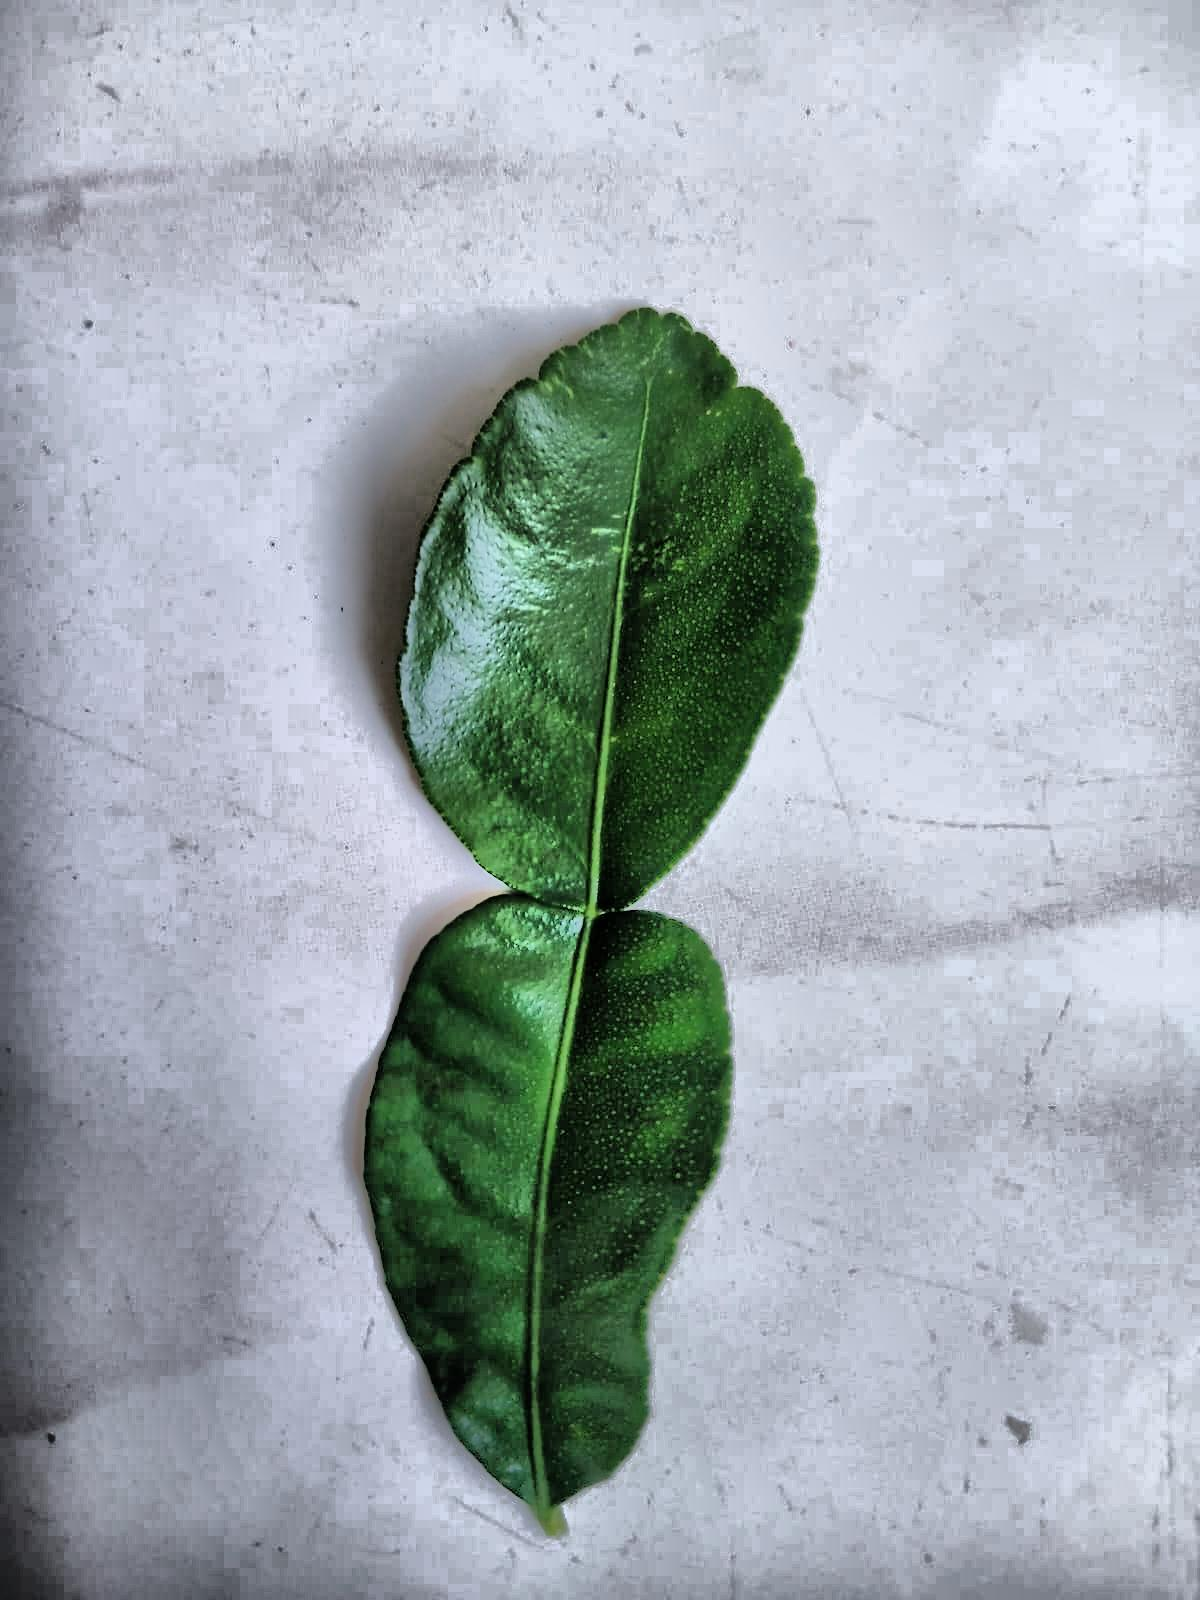daun jeruk: (363, 309, 817, 1532)
